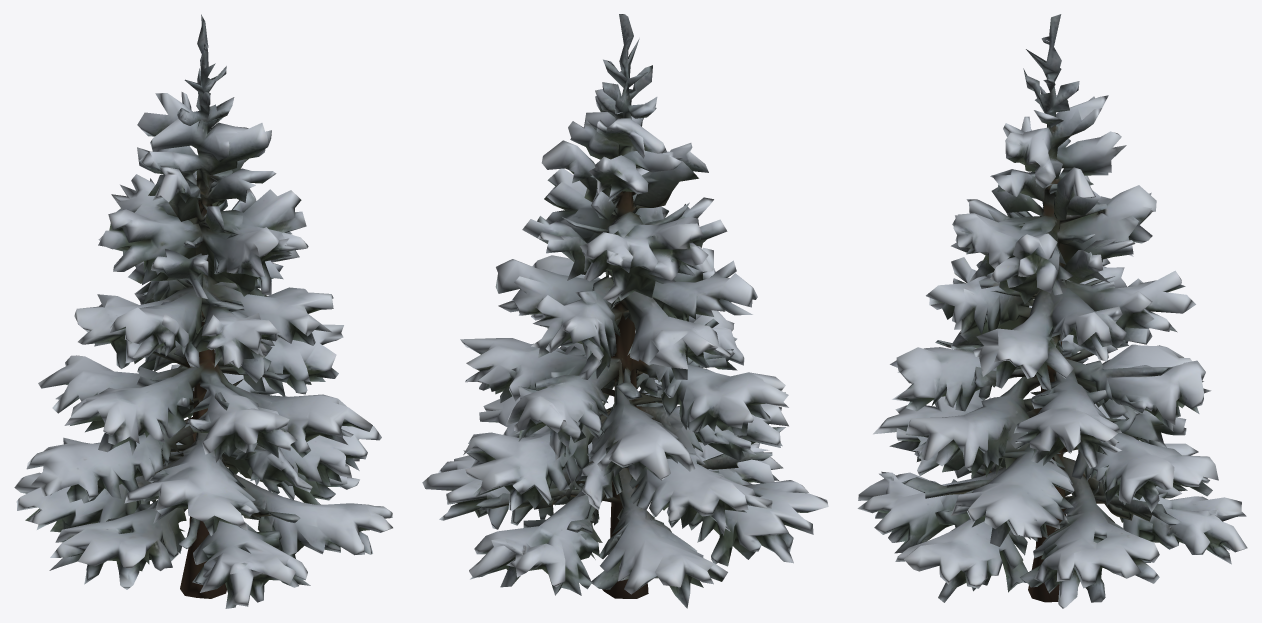
File: tree_spruce_snow.glb
The picture shows the model from 3 angles, left to right: view 1: azimuth 30°, elevation 25°; view 2: azimuth 150°, elevation 25°; view 3: azimuth 270°, elevation 25°; orthographic projection.
Size of the model in its own units: 0.6196 by 1 by 0.6097.
1 material, 1 textured.
